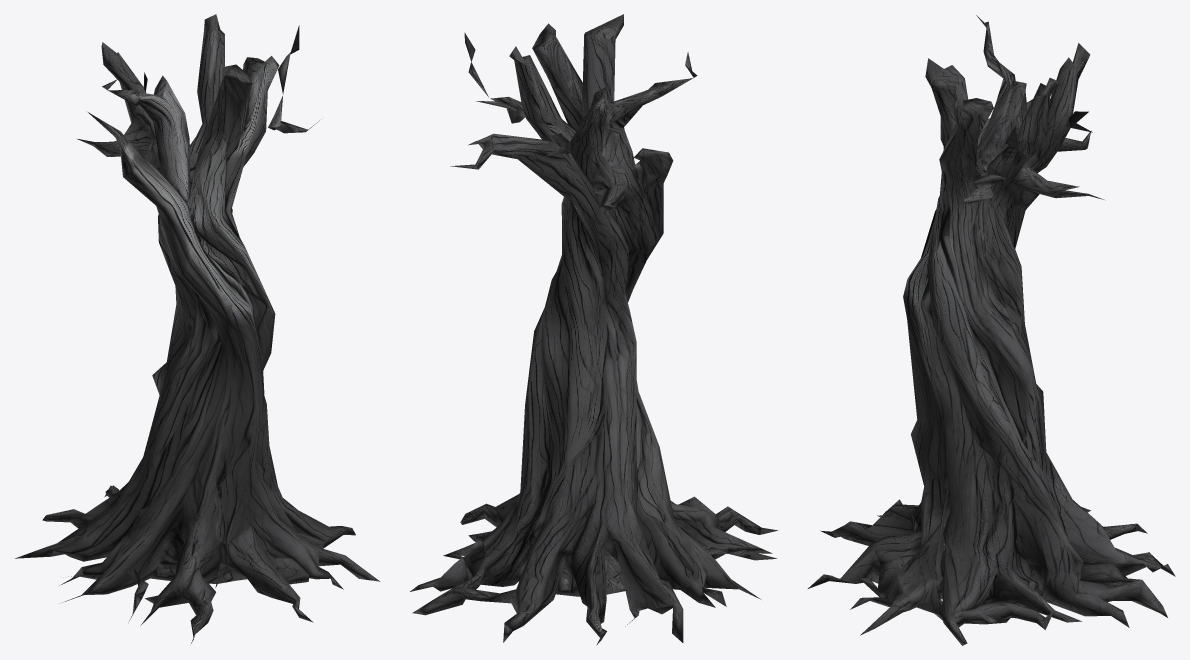
Rendered from prop-deadtree-trunk.glb.
3 renders of one model, left to right at view 1: azimuth 30°, elevation 25°; view 2: azimuth 150°, elevation 25°; view 3: azimuth 270°, elevation 25°, orthographic. The views are drawn at different scales.
Size of the model in its own units: 1.19 by 2 by 1.28.
1 material, 1 textured.
